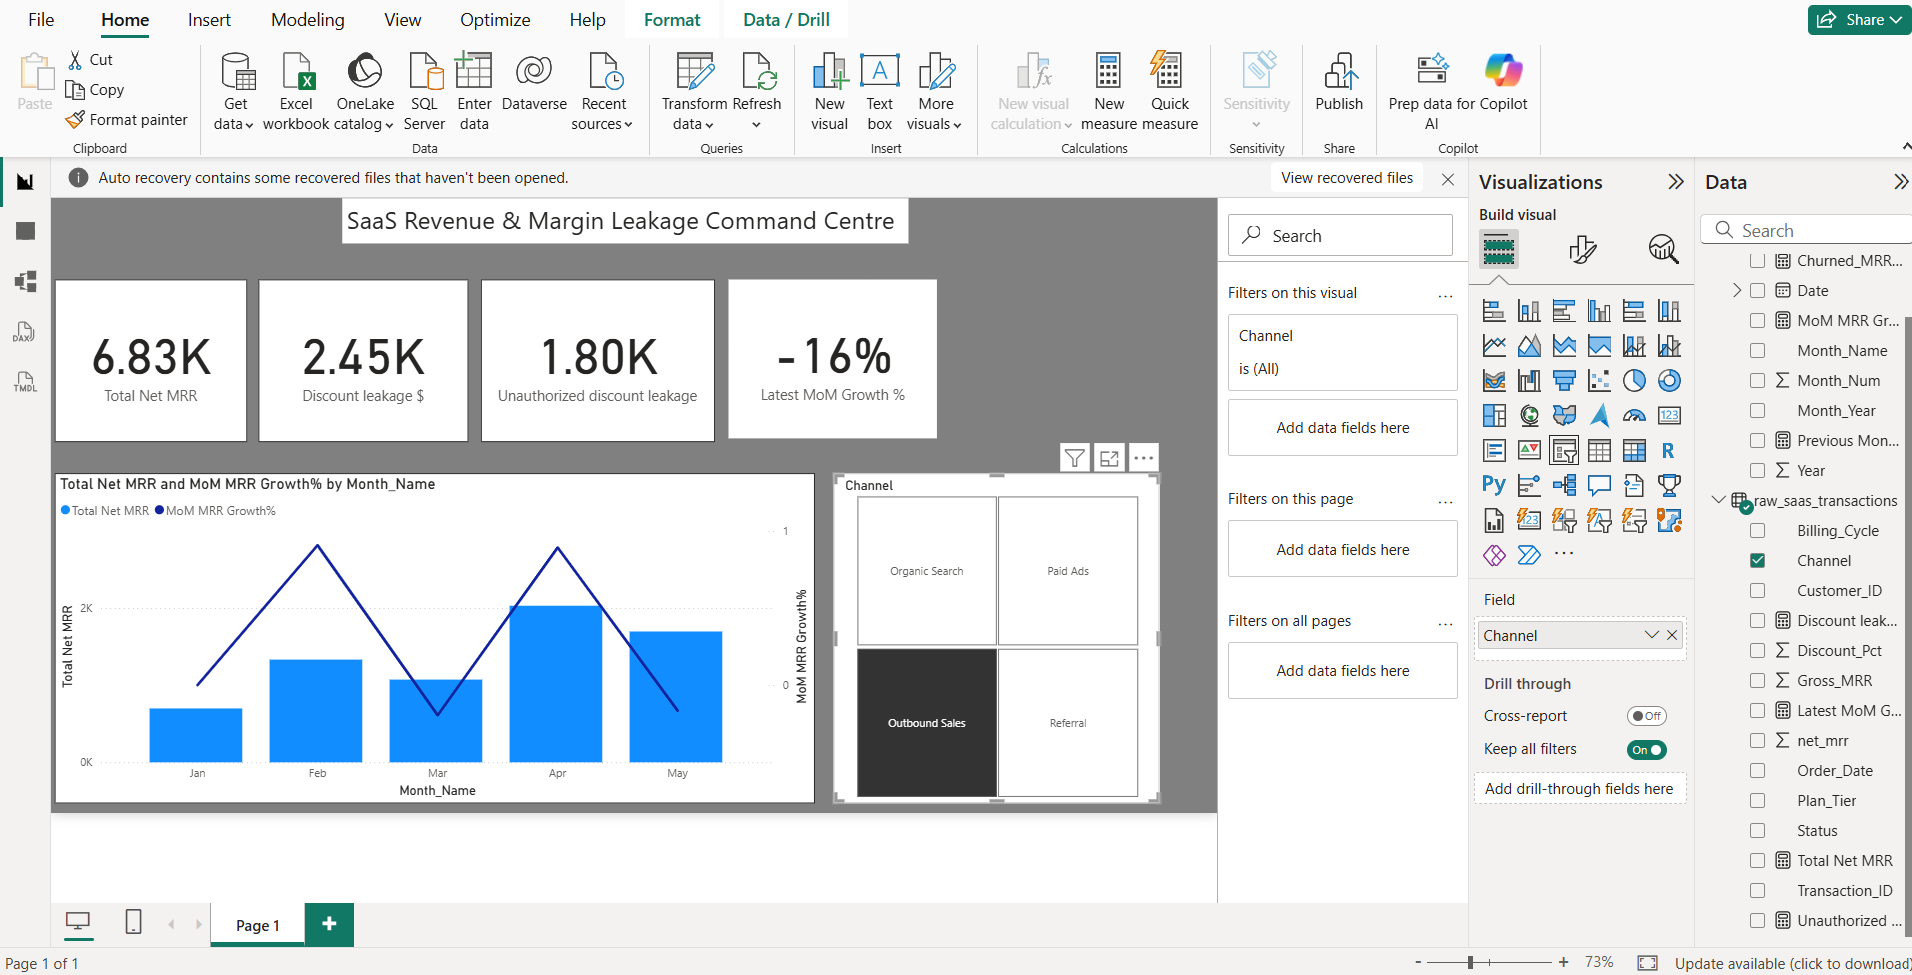

What the dashboard file says about the page in this screenshot:
{"tool":"powerbi","page":{"name":"Page 1","canvas":[1280,720],"ordinal":0},"visuals":[{"type":"card","fields":{"Values":["raw_saas_transactions.Total_Net_MRR"]},"box":[4.1,134.5,211.3,178.4],"z":0},{"type":"card","fields":{"Values":["raw_saas_transactions.Discount_leakage $"]},"box":[227.8,134.5,230.5,178.4],"z":1000},{"type":"card","fields":{"Values":["raw_saas_transactions.Unauthorized_discount_leakage"]},"box":[472,134.5,256.6,178.4],"z":2000},{"type":"lineClusteredColumnComboChart","fields":{"Category":["Dim_Date.Month_Name"],"Y":["raw_saas_transactions.Total_Net_MRR"],"Y2":["Dim_Date.MoM_MRR_Growth%"]},"box":[4.1,347.2,834.3,362.3],"z":3000},{"type":"textbox","box":[319.7,45.3,621.6,49.4],"z":4000},{"type":"slicer","fields":{"Values":["raw_saas_transactions.Channel"]},"box":[859,347.2,358.1,362.3],"z":5000},{"type":"card","fields":{"Values":["raw_saas_transactions.Latest MoM Growth %"]},"box":[743.7,134.5,229.2,174.3],"z":6000}]}

Visuals, with their boxes on the page's 1280x720 design canvas (x1, y1, x2, y2). These are canvas units, not pixel positions in the 1912x975 screenshot, which may show the page scaled, cropped or inside an application window:
card - raw_saas_transactions.Total_Net_MRR: <region>4, 134, 215, 313</region>
card - raw_saas_transactions.Discount_leakage $: <region>228, 134, 458, 313</region>
card - raw_saas_transactions.Unauthorized_discount_leakage: <region>472, 134, 729, 313</region>
lineClusteredColumnComboChart - Dim_Date.Month_Name x raw_saas_transactions.Total_Net_MRR: <region>4, 347, 838, 710</region>
textbox: <region>320, 45, 941, 95</region>
slicer - raw_saas_transactions.Channel: <region>859, 347, 1217, 710</region>
card - raw_saas_transactions.Latest MoM Growth %: <region>744, 134, 973, 309</region>
